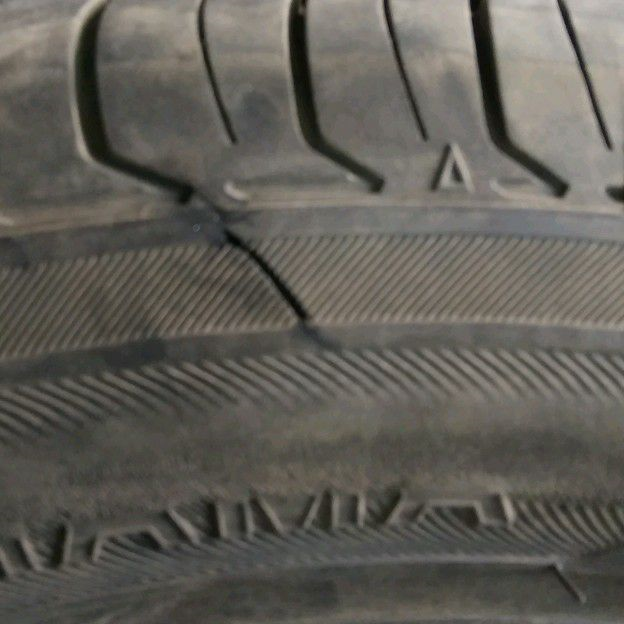cut: (218, 225, 310, 322)
